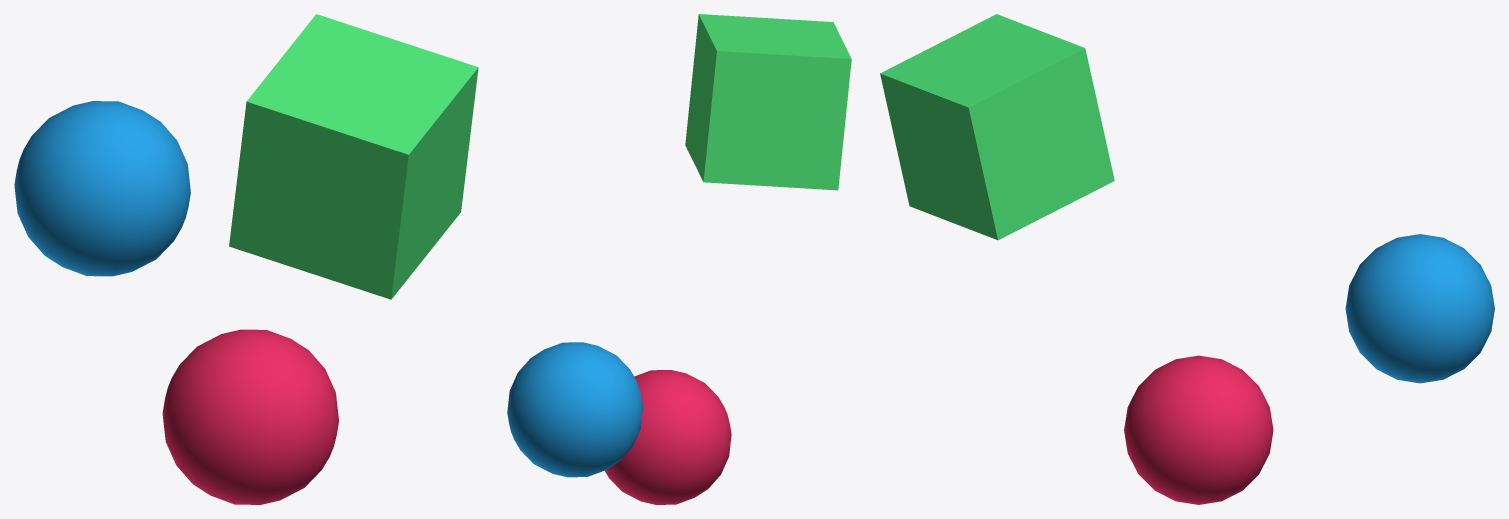
3 renders of one model, left to right at view 1: azimuth 30°, elevation 25°; view 2: azimuth 150°, elevation 25°; view 3: azimuth 270°, elevation 25°, orthographic. The views are drawn at different scales.
Parts seen in each view (by area): view 1: Cube, Icosphere, Icosphere.001; view 2: Cube, Icosphere, Icosphere.001; view 3: Cube, Icosphere.001, Icosphere.
Part boxes in pixels (x1,y1,x2,y2): Cube: (229, 14, 478, 299); Icosphere: (14, 101, 190, 276); Icosphere.001: (162, 329, 338, 504); Cube: (685, 14, 851, 190); Icosphere: (507, 342, 642, 477); Icosphere.001: (605, 370, 731, 504); Cube: (880, 14, 1114, 240); Icosphere.001: (1124, 355, 1273, 504); Icosphere: (1345, 234, 1494, 383).
Size of what is drawn, in the model's own units: 2.8 by 8.23 by 6.63.
